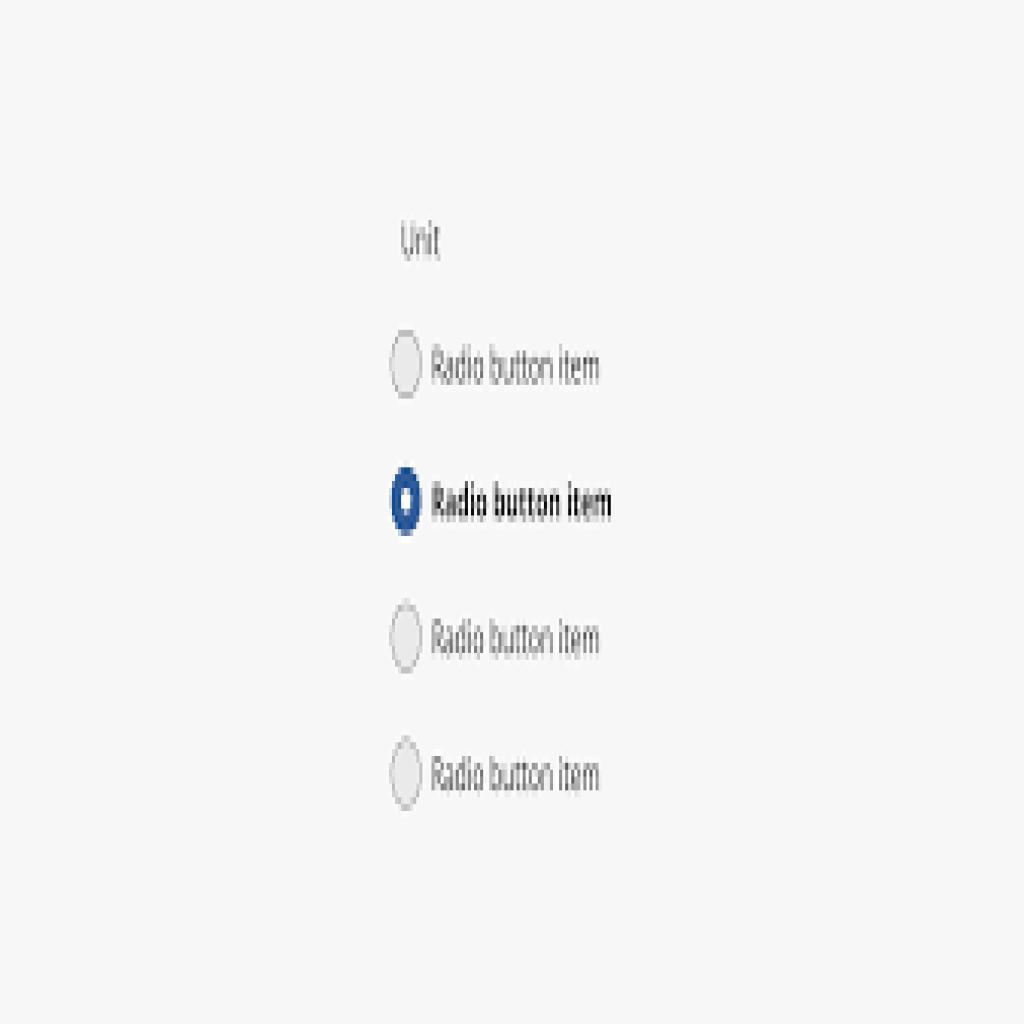radio: (386, 734, 427, 812), (389, 598, 426, 675), (389, 462, 426, 537), (390, 328, 425, 402)
